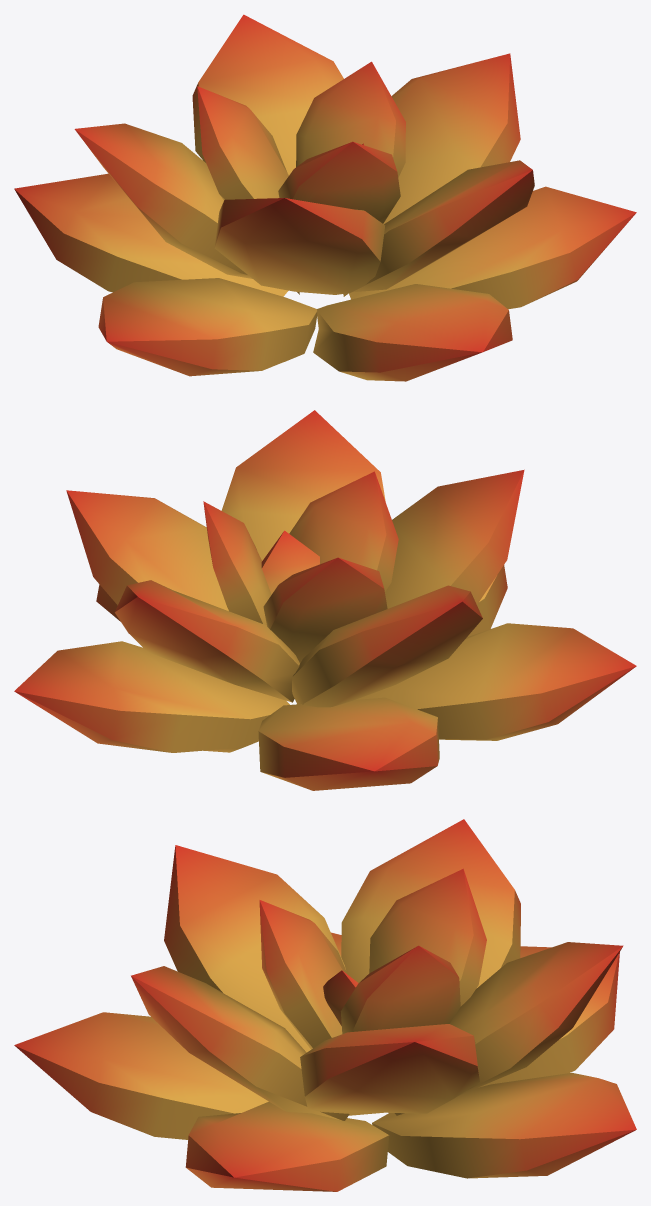
The picture shows the model from 3 angles, top to bottom: view 1: azimuth 30°, elevation 25°; view 2: azimuth 150°, elevation 25°; view 3: azimuth 270°, elevation 25°; orthographic projection. The views are drawn at different scales.
Parts seen in each view (by area): view 1: LOD 2_16967760880170184947_4f521bcaeda9b9647b799715f43ad4b9; view 2: LOD 2_16967760880170184947_4f521bcaeda9b9647b799715f43ad4b9; view 3: LOD 2_16967760880170184947_4f521bcaeda9b9647b799715f43ad4b9.
Boxes of the visible parts, x1,y1,x2,y2 form: LOD 2_16967760880170184947_4f521bcaeda9b9647b799715f43ad4b9: (14,14,636,381); LOD 2_16967760880170184947_4f521bcaeda9b9647b799715f43ad4b9: (14,410,636,790); LOD 2_16967760880170184947_4f521bcaeda9b9647b799715f43ad4b9: (14,819,636,1191).
Size of the model in its own units: 0.8955 by 0.3434 by 0.8664.
